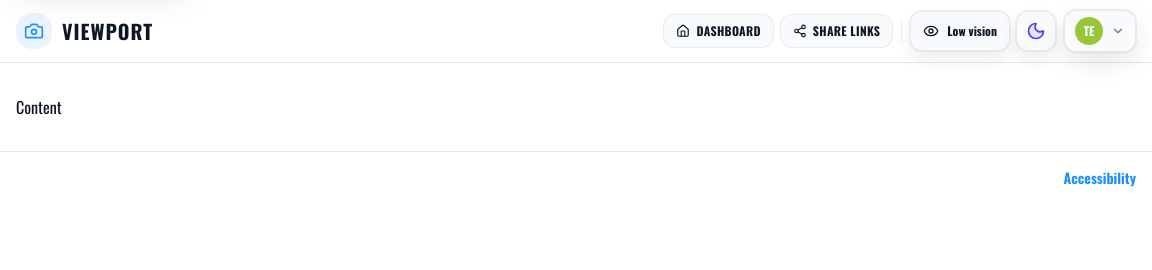
Test: Layout › should show user email when logged in
Open the user menu dropdown
Click the button with aria-label "User menu": point(1100, 31) left=1064, top=10, right=1136, bottom=52
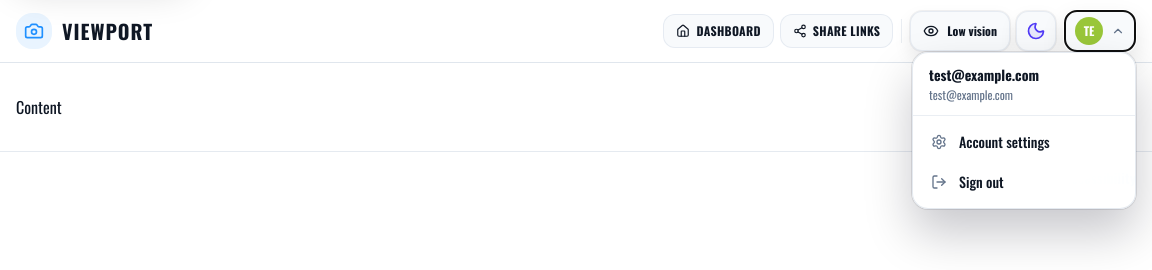
expect the 1st text "test@example.com" is shown: met, box left=929, top=64, right=1039, bottom=85
